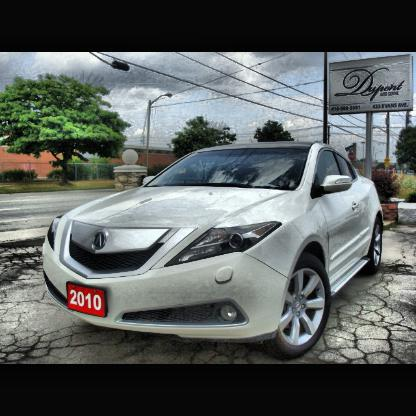Acura ZDX Hatchback 2012: (46, 143, 385, 358)
